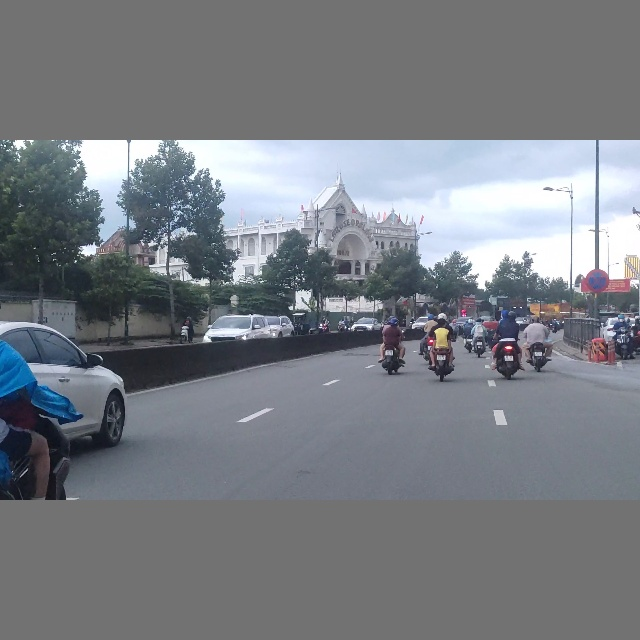P.130: (585, 269, 609, 292)
